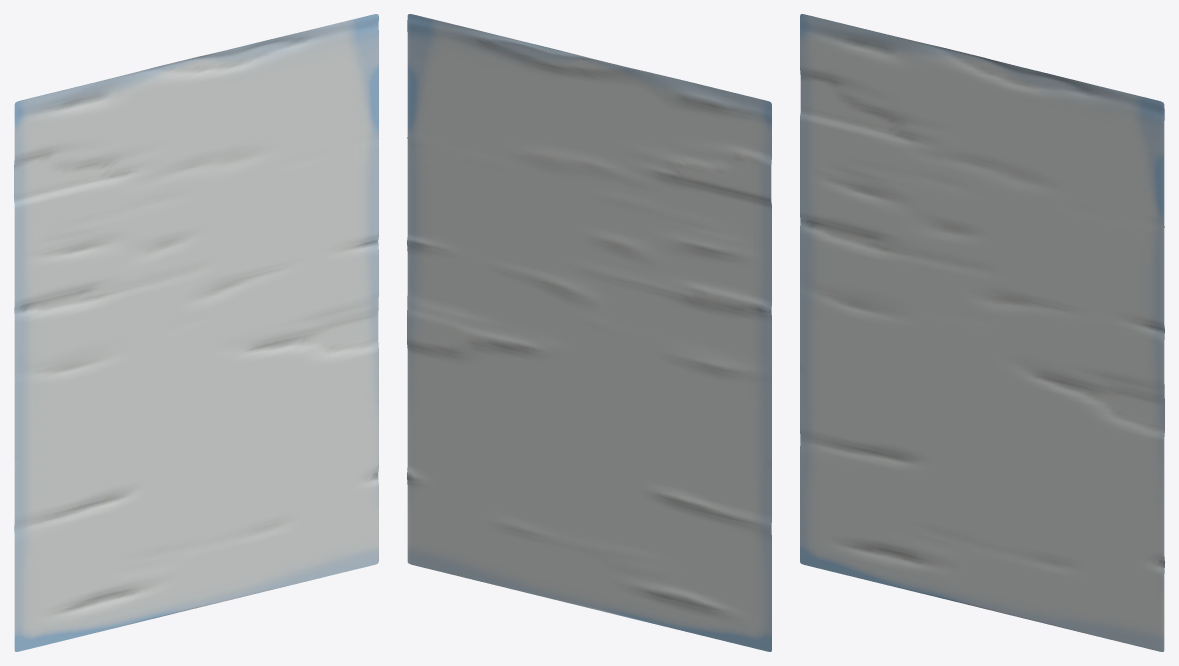
File: GluedPosterv2-transformed.glb
The picture shows the model from 3 angles, left to right: view 1: azimuth 30°, elevation 25°; view 2: azimuth 150°, elevation 25°; view 3: azimuth 330°, elevation 25°; orthographic projection.
Visible parts, largest first — view 1: Plane; view 2: Plane; view 3: Plane.
Boxes of the visible parts, x1,y1,x2,y2 form: Plane: (14, 14, 378, 651); Plane: (407, 14, 771, 651); Plane: (800, 14, 1164, 651).
Bounding box in the file's own units: 0.8258 × 1.19 × 0.00248.
1 material, 1 textured.
